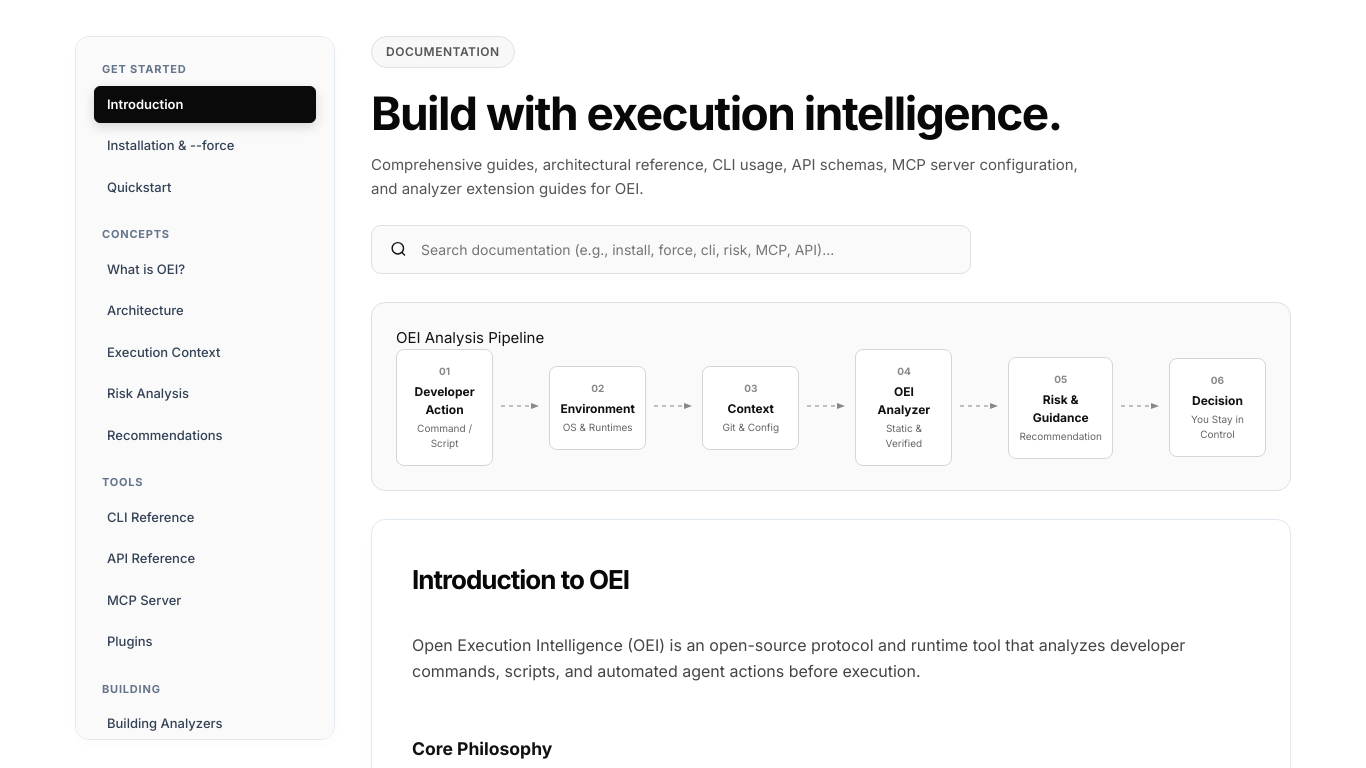
Scenario: DocsPage › renders the dedicated article for {}
This screenshot has width=1366, height=768.
Click the button "Installation & --force".
click(205, 146)  # box [94,127,316,164]
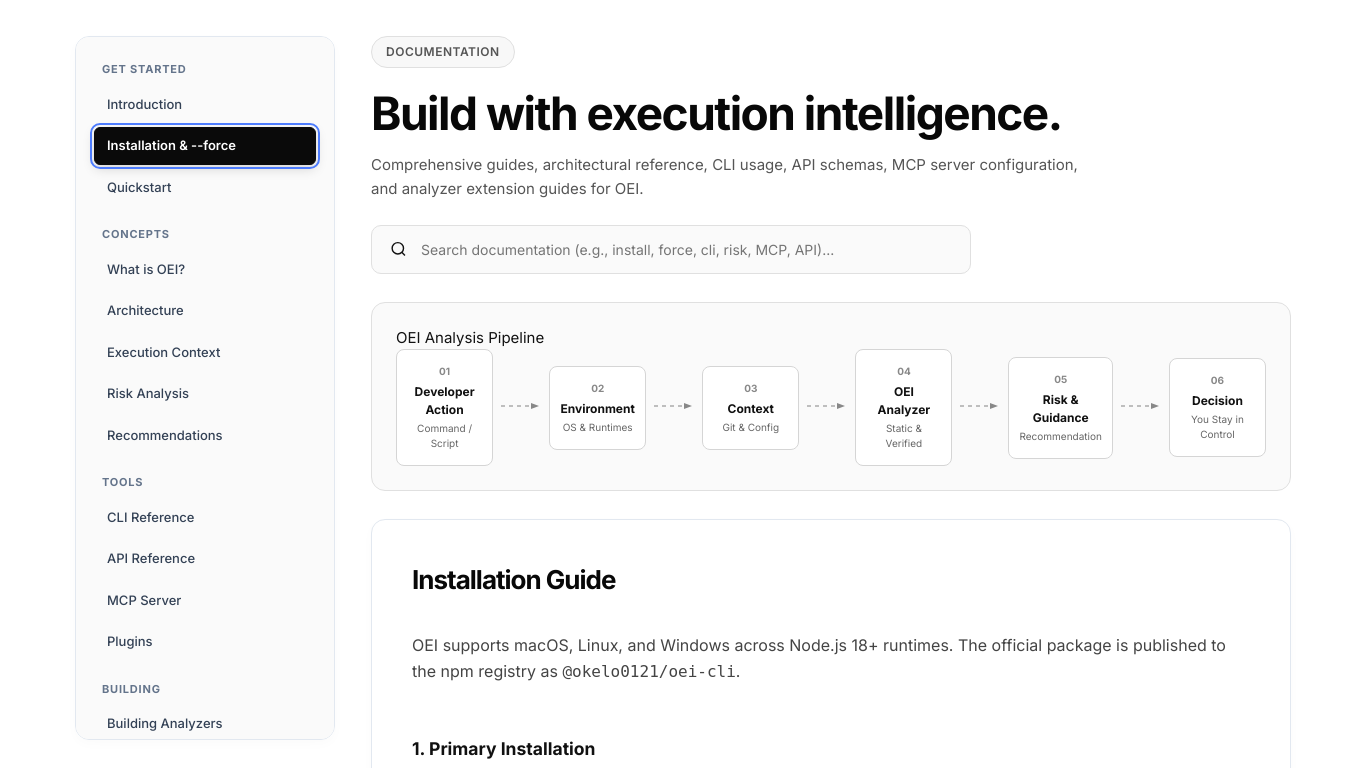
Check: the heading "Installation Guide" is shown, box [412,564,616,595]
Check: the heading "Introduction to OEI" is gone
